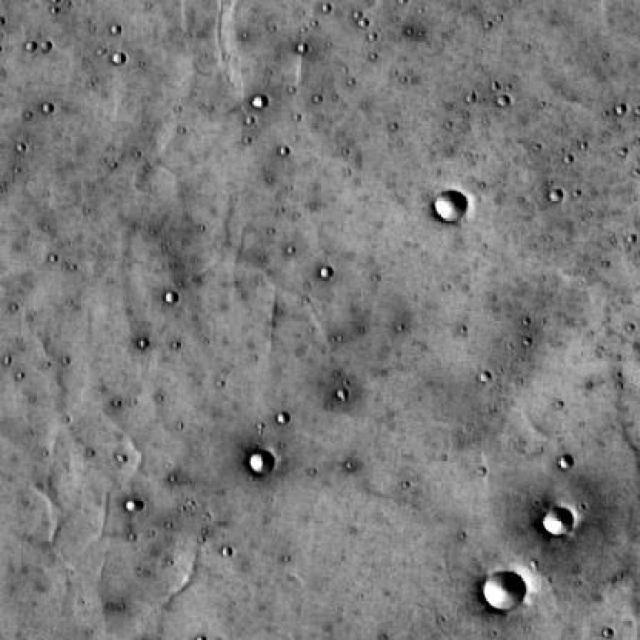crater: (483, 572, 528, 612), (431, 188, 464, 218), (548, 509, 575, 533), (248, 452, 274, 474), (125, 498, 143, 516)
